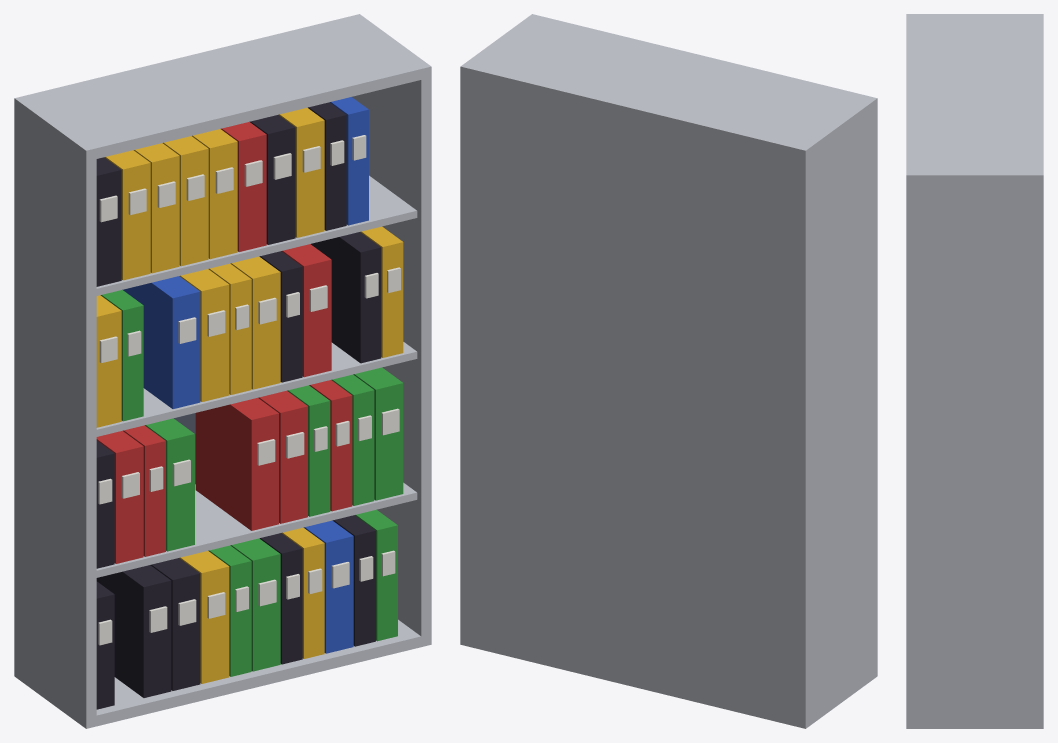
File: bookshelf-office.glb
The picture shows the model from 3 angles, left to right: view 1: azimuth 30°, elevation 25°; view 2: azimuth 150°, elevation 25°; view 3: azimuth 270°, elevation 25°; orthographic projection. The views are drawn at different scales.
Visible parts, largest first — view 1: Binders, Shelf unit, Binder labels, Shelf boards; view 2: Shelf unit; view 3: Shelf unit.
Part boxes in pixels (x1,y1,x2,y2): Binders: (96,97,403,709); Shelf unit: (14,14,431,728); Binder labels: (98,135,400,645); Shelf boards: (96,175,417,577); Shelf unit: (460,14,877,728); Shelf unit: (906,14,1043,728).
Bounding box in the file's own units: 1 × 1.6 × 0.36.
